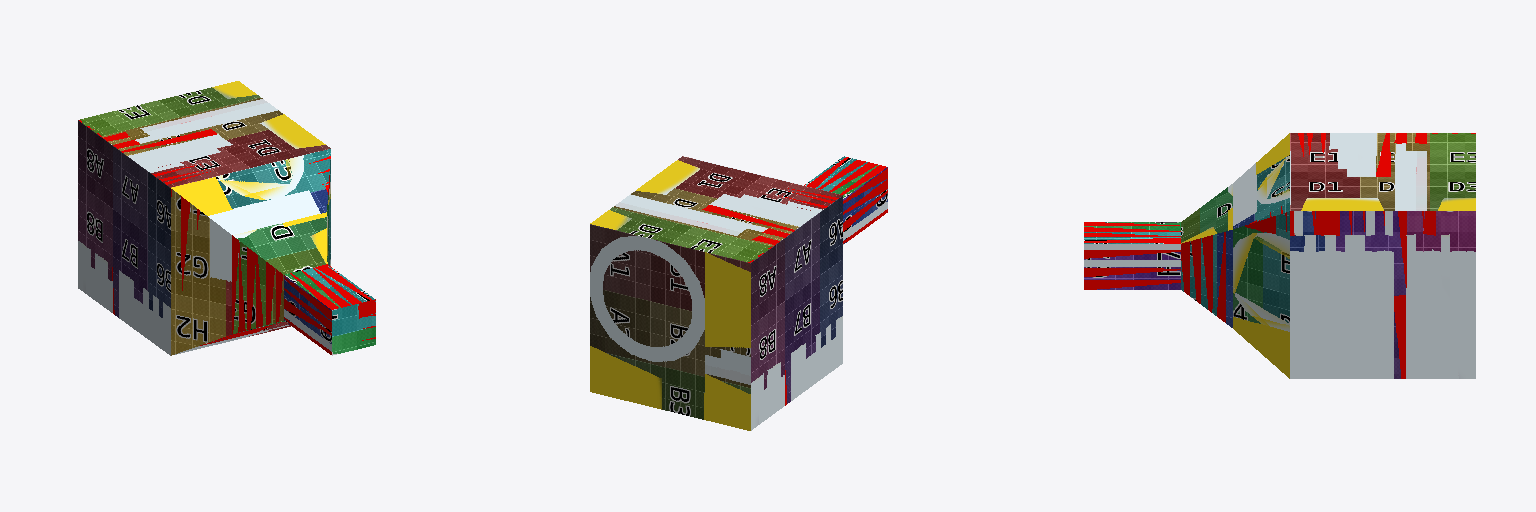
The picture shows the model from 3 angles: view 1: azimuth 30°, elevation 25°; view 2: azimuth 150°, elevation 25°; view 3: azimuth 270°, elevation 25°; orthographic projection.
Visible parts, largest first — view 1: Cube; view 2: Cube; view 3: Cube.
Part boxes in pixels (left/top/right/bottom): Cube: left=78, top=81, right=375, bottom=355; Cube: left=590, top=156, right=887, bottom=430; Cube: left=1084, top=133, right=1475, bottom=378.
Size of the model in its own units: 2 by 2 by 4.22.
1 materials, 1 textured.